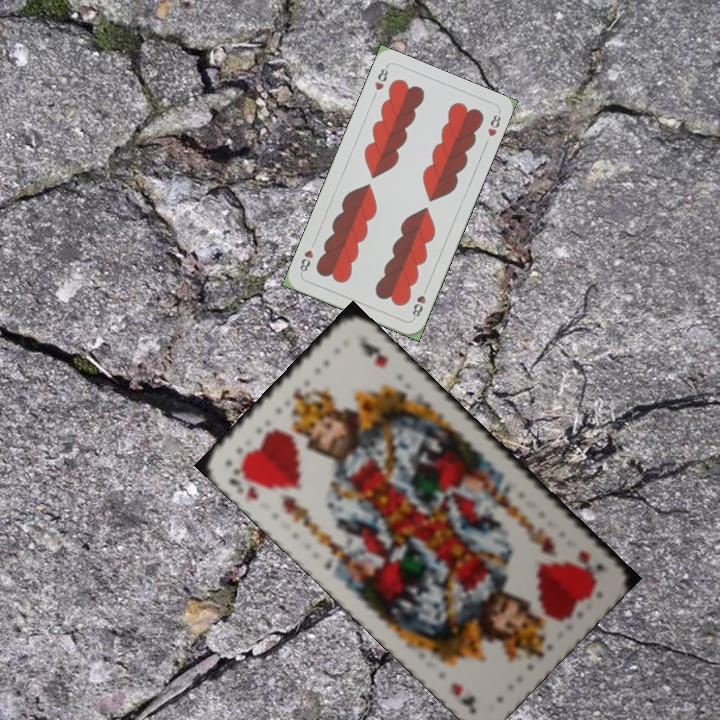H8: (408, 283, 430, 322), (370, 63, 391, 93)
HK: (224, 461, 267, 503), (573, 545, 606, 573)
